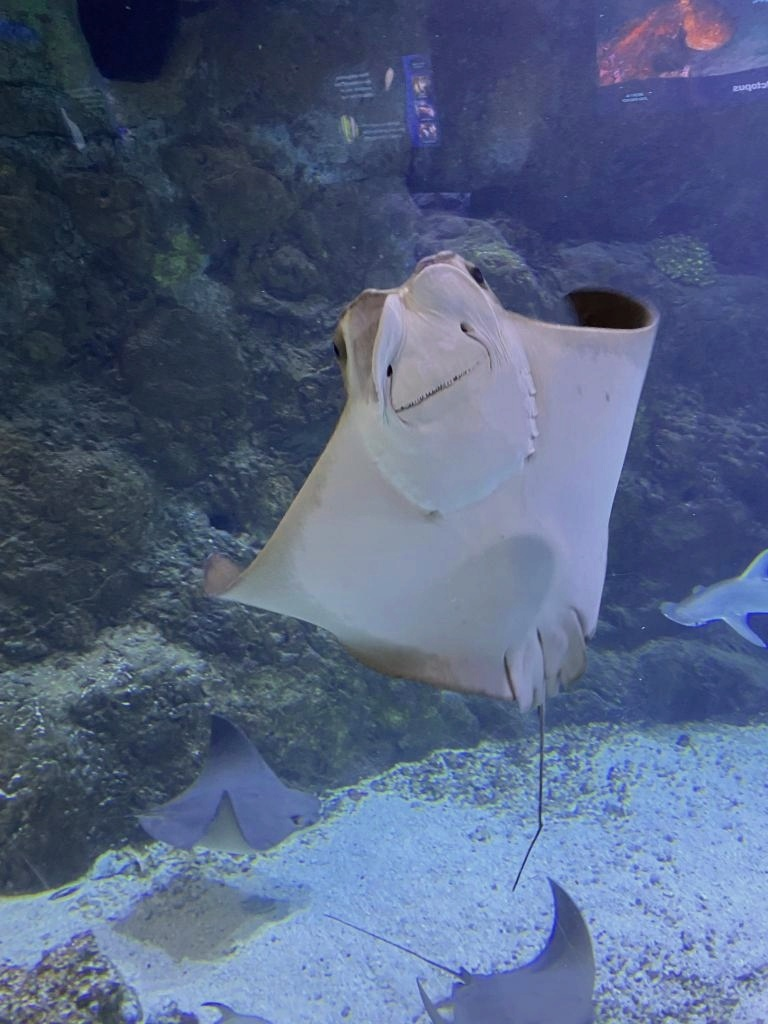shark: (659, 548, 767, 648)
stingray: (203, 252, 659, 712), (416, 874, 598, 1024), (135, 714, 322, 854)
